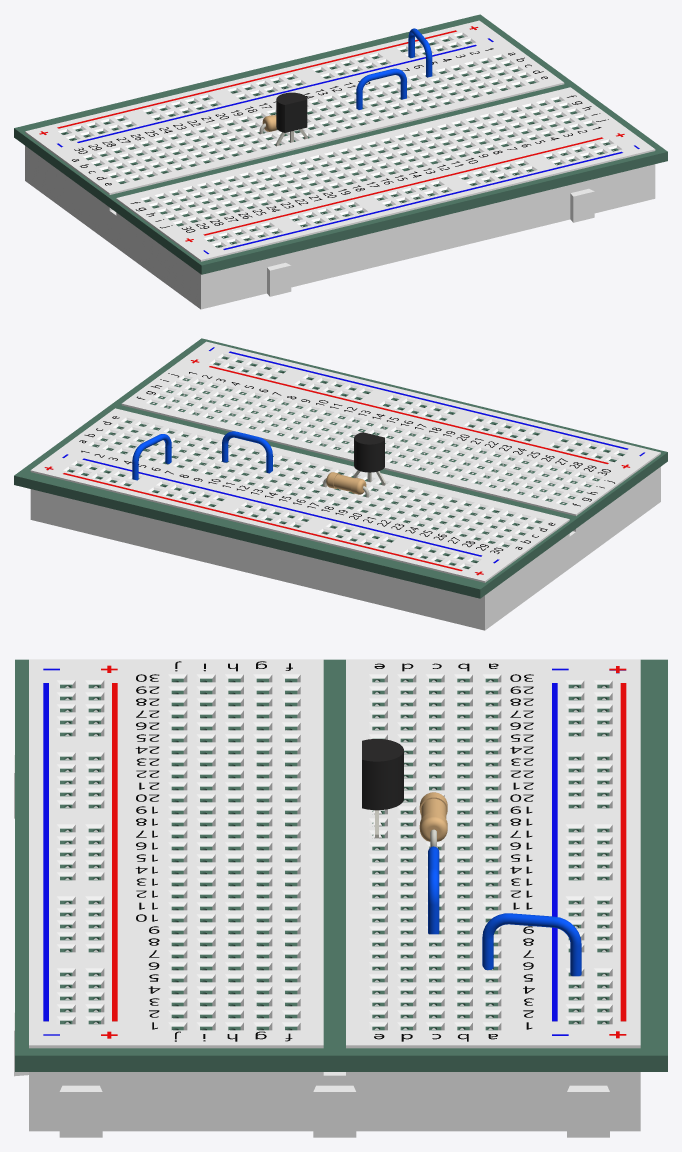
3 views of the same model, one above another, from view 1: azimuth 30°, elevation 25°; view 2: azimuth 150°, elevation 25°; view 3: azimuth 270°, elevation 25° (orthographic). The views are drawn at different scales.
Visible parts, largest first — view 1: HalfBreadboard001, breadboard_PCB, TO-92_Inline_Wide, Jumper-Wire_8mm_Blue, Jumper-Wire_8mm_Blue002; view 2: HalfBreadboard001, breadboard_PCB, TO-92_Inline_Wide, R_Axial_DIN0207_L63mm_D25mm_P762mm_Horizontal, Jumper-Wire_8mm_Blue, Jumper-Wire_8mm_Blue002; view 3: HalfBreadboard001, breadboard_PCB, TO-92_Inline_Wide, Jumper-Wire_8mm_Blue002, R_Axial_DIN0207_L63mm_D25mm_P762mm_Horizontal, Jumper-Wire_8mm_Blue.
Boxes of the visible parts, x1=… form: HalfBreadboard001: x1=25, y1=20, x2=655, y2=309; breadboard_PCB: x1=14, y1=14, x2=667, y2=274; TO-92_Inline_Wide: x1=275, y1=92, x2=307, y2=146; Jumper-Wire_8mm_Blue: x1=356, y1=68, x2=406, y2=109; Jumper-Wire_8mm_Blue002: x1=408, y1=28, x2=432, y2=77; HalfBreadboard001: x1=30, y1=341, x2=660, y2=630; breadboard_PCB: x1=14, y1=338, x2=667, y2=598; TO-92_Inline_Wide: x1=353, y1=432, x2=385, y2=485; R_Axial_DIN0207_L63mm_D25mm_P762mm_Horizontal: x1=323, y1=472, x2=369, y2=497; Jumper-Wire_8mm_Blue: x1=222, y1=431, x2=272, y2=473; Jumper-Wire_8mm_Blue002: x1=132, y1=434, x2=171, y2=480; HalfBreadboard001: x1=14, y1=659, x2=640, y2=1137; breadboard_PCB: x1=15, y1=659, x2=667, y2=1071; TO-92_Inline_Wide: x1=362, y1=739, x2=403, y2=838; Jumper-Wire_8mm_Blue002: x1=482, y1=913, x2=581, y2=976; R_Axial_DIN0207_L63mm_D25mm_P762mm_Horizontal: x1=419, y1=792, x2=447, y2=847; Jumper-Wire_8mm_Blue: x1=428, y1=846, x2=439, y2=934.
Size of the model in its own units: 8.38 by 1.56 by 5.85.
